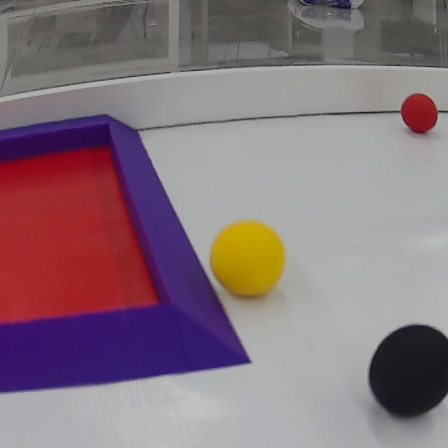black: (364, 322, 448, 420)
red: (398, 93, 440, 137)
red_aim: (1, 113, 253, 398)
yellow: (203, 218, 291, 303)
